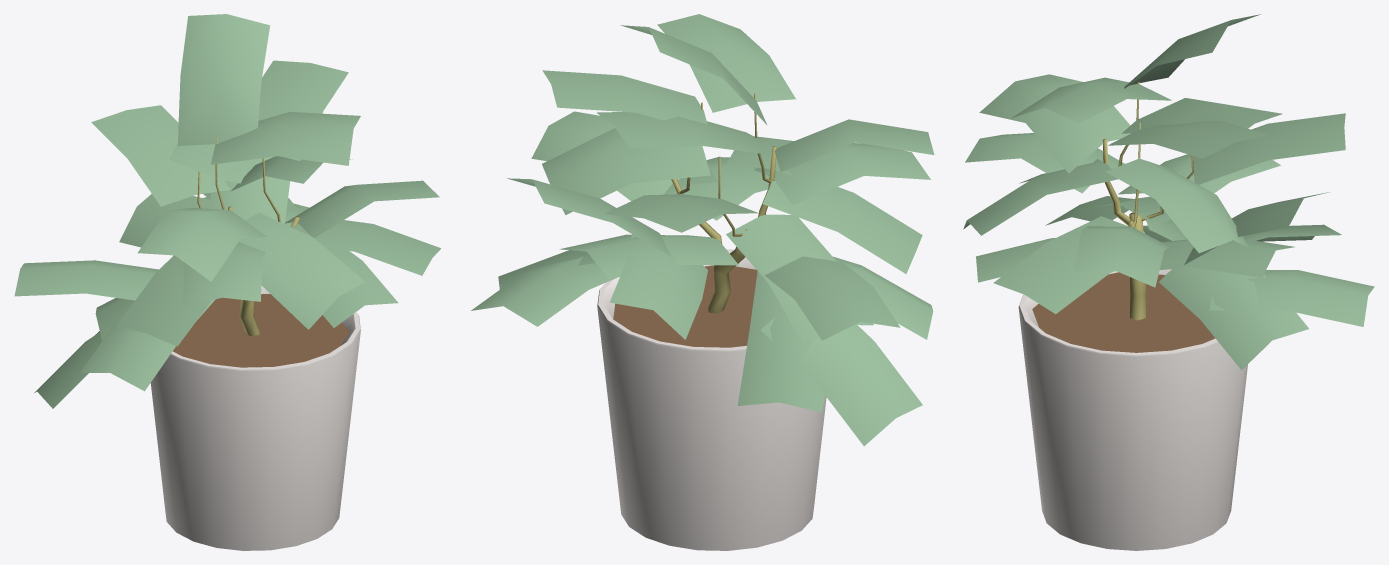
The model's file is Bonsai.FBX.
3 views of the same model, side by side, from view 1: azimuth 30°, elevation 25°; view 2: azimuth 150°, elevation 25°; view 3: azimuth 270°, elevation 25° (orthographic). The views are drawn at different scales.
Visible parts, largest first — view 1: Bonsai; view 2: Bonsai; view 3: Bonsai.
Part boxes in pixels (left/top/right/bottom): Bonsai: left=14, top=14, right=440, bottom=550; Bonsai: left=471, top=14, right=934, bottom=550; Bonsai: left=963, top=14, right=1374, bottom=550.
Size of the model in its own units: 18.42 by 16.74 by 22.47.
